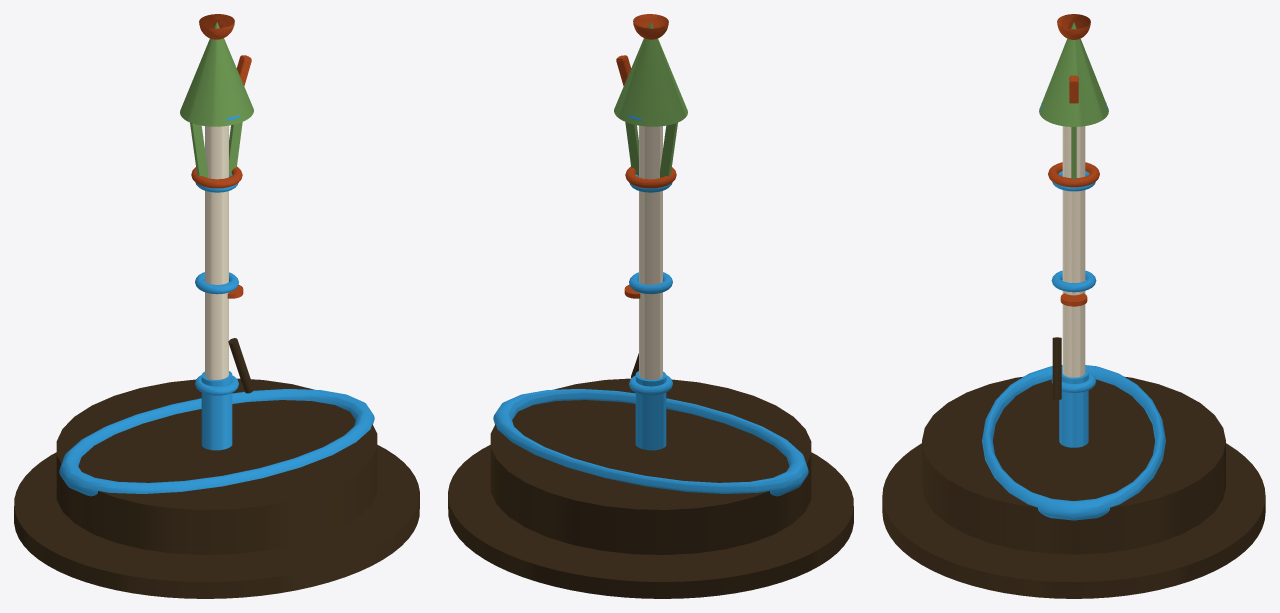
The model's file is 0268_世界古代文明图鉴_登德拉铠甲.glb.
3 renders of one model, left to right at view 1: azimuth 30°, elevation 25°; view 2: azimuth 150°, elevation 25°; view 3: azimuth 270°, elevation 25°, orthographic.
Parts seen in each view (by area): view 1: card_0268; view 2: card_0268; view 3: card_0268.
Boxes of the visible parts, x1,y1,x2,y2 form: card_0268: (14, 14, 419, 598); card_0268: (448, 14, 853, 598); card_0268: (882, 14, 1265, 598).
Size of the model in its own units: 0.7555 by 1 by 0.7074.
